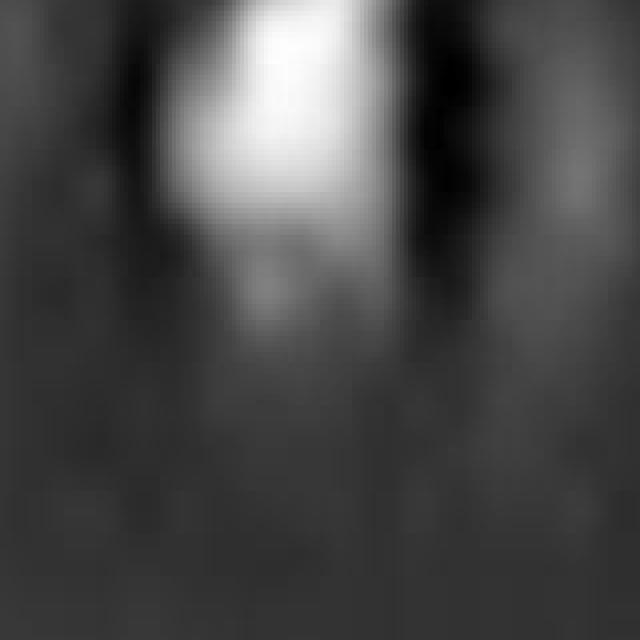person: (113, 1, 413, 364), (489, 1, 640, 412)
